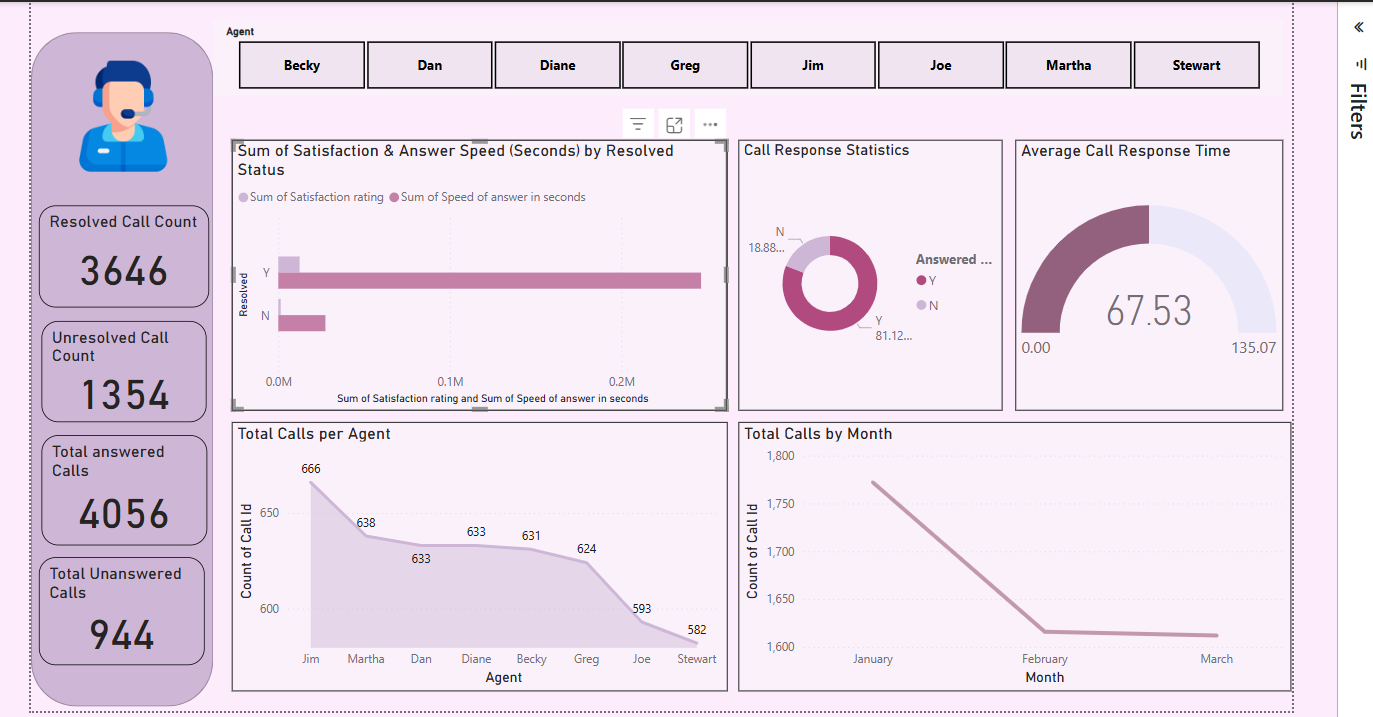

Layout of this report page (visuals, bound fields, positions):
{"tool":"powerbi","page":{"name":"Page 1","canvas":[1280,720],"ordinal":0},"visuals":[{"type":"donutChart","title":"Call Response Statistics","fields":{"Category":["Sheet1.Answered (Y/N)"],"Y":["CountNonNull(Sheet1.Answered (Y/N))"]},"box":[718.3,140,268.3,275],"z":0},{"type":"clusteredBarChart","title":"Sum of Satisfaction & Answer Speed (Seconds) by Resolved Status","fields":{"Category":["Sheet1.Resolved"],"Y":["Sum(Sheet1.Satisfaction rating)","Sum(Sheet1.Speed of answer in seconds)"]},"box":[203.3,140,503.3,275],"z":1000},{"type":"gauge","title":"Average Call Response Time","fields":{"Y":["Avg(Sheet1.Speed of answer in seconds)"]},"box":[1000,140,271.7,275],"z":2000},{"type":"areaChart","title":"Total Calls per Agent","fields":{"Category":["Sheet1.Agent"],"Y":["CountNonNull(Sheet1.Call Id)"]},"box":[203.3,426.7,503.3,273.3],"z":3000},{"type":"slicer","fields":{"Values":["Sheet1.Agent"]},"box":[185.3,18.7,1086.5,76],"z":4000},{"type":"lineChart","title":"Total Calls by Month","fields":{"Category":["Sheet1.Date.Variation.Date Hierarchy.Month"],"Y":["CountNonNull(Sheet1.Call Id)"]},"box":[718.3,426.7,561.7,273.3],"z":5000},{"type":"shape","box":[0,30,185,685],"z":6000},{"type":"card","title":"Resolved Call Count","fields":{"Values":["CountNonNull(Sheet1.Resolved)"]},"box":[8,206.6,173.3,104],"z":7000},{"type":"card","title":"Total answered Calls","fields":{"Values":["CountNonNull(Sheet1.Answered (Y/N))"]},"box":[10,440,168.3,111.7],"z":8000},{"type":"card","title":"Unresolved Call Count","fields":{"Values":["CountNonNull(Sheet1.Resolved)"]},"box":[10.7,323.9,168,102.6],"z":9000},{"type":"card","title":"Total Unanswered Calls","fields":{"Values":["CountNonNull(Sheet1.Answered (Y/N))"]},"box":[8.3,563.3,168.3,110],"z":10000},{"type":"image","box":[31.7,46.7,123.3,138.3],"z":11000}]}

Visuals, with their boxes in screenshot pixels (x1, y1, x2, y2):
"Call Response Statistics" donutChart: 732 134 996 405
"Sum of Satisfaction & Answer Speed (Seconds) by Resolved Status" clusteredBarChart: 225 134 721 405
"Average Call Response Time" gauge: 1009 134 1277 405
"Total Calls per Agent" areaChart: 225 416 721 685
slicer - Sheet1.Agent: 207 15 1277 90
"Total Calls by Month" lineChart: 732 416 1285 685
shape: 25 26 207 700
"Resolved Call Count" card: 33 200 203 302
"Total answered Calls" card: 35 430 201 539
"Unresolved Call Count" card: 36 315 201 416
"Total Unanswered Calls" card: 33 551 199 659
image: 56 42 178 179
